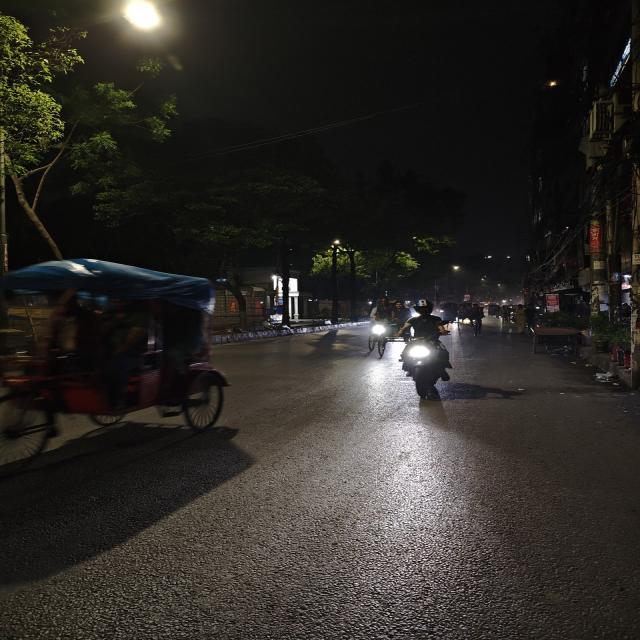bicycle: (464, 304, 487, 341)
motorcycle: (404, 300, 459, 408)
pedestrian: (509, 299, 528, 337)
rickshaw: (9, 231, 238, 483), (353, 292, 418, 360), (441, 297, 462, 334)
